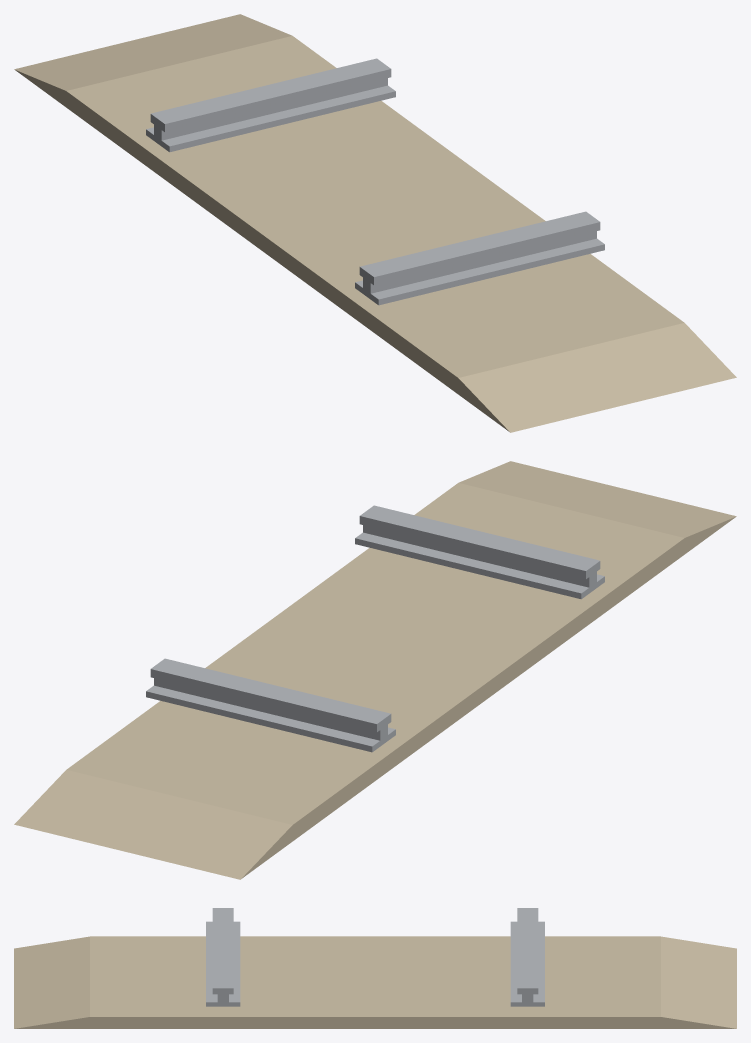
Rendered from Track_rail.fbx.
3 views of the same model, one above another, from view 1: azimuth 30°, elevation 25°; view 2: azimuth 150°, elevation 25°; view 3: azimuth 270°, elevation 25° (orthographic). The views are drawn at different scales.
Parts seen in each view (by area): view 1: Track_rail; view 2: Track_rail; view 3: Track_rail.
Part boxes in pixels (box(x1,y1,x2,y2)): Track_rail: box(14, 14, 736, 432); Track_rail: box(14, 461, 736, 879); Track_rail: box(14, 908, 736, 1028).
Bounding box in the file's own units: 1 × 0.235 × 3.8.
